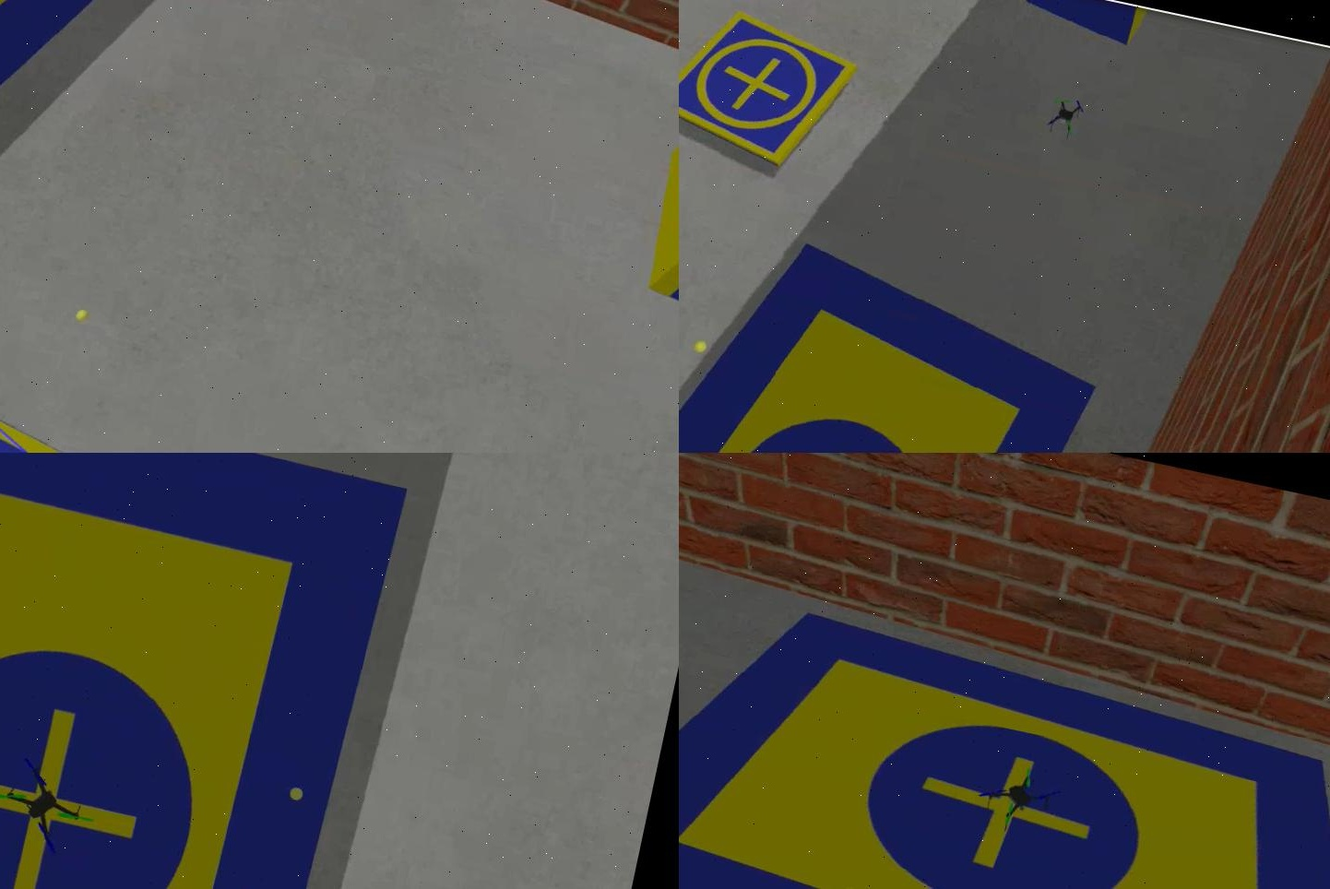large_base: (678, 556, 1328, 889), (0, 454, 408, 889), (678, 195, 1114, 454), (0, 1, 209, 275)
small_base: (678, 1, 861, 178)
